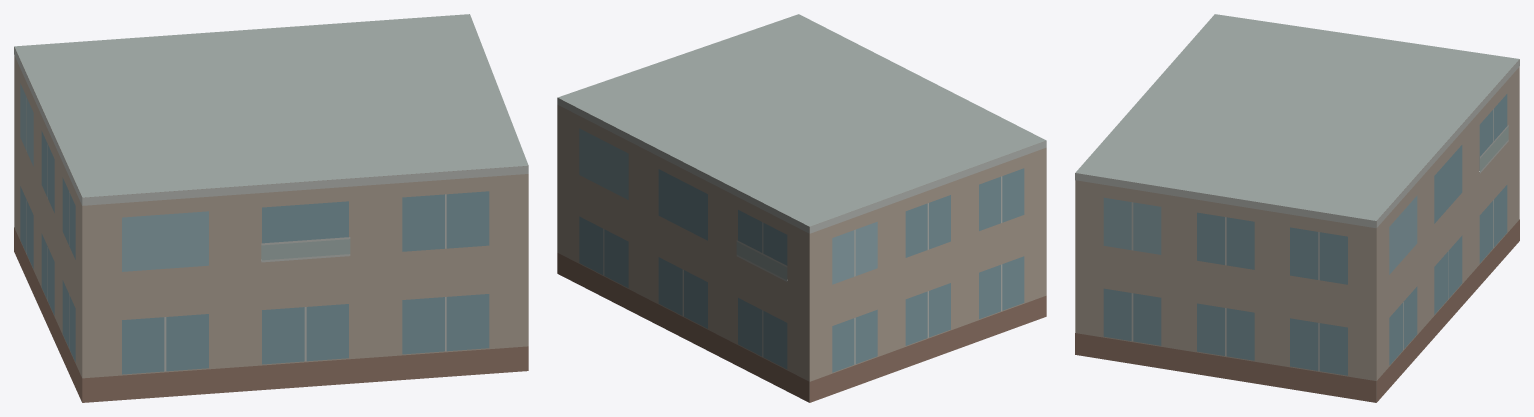
Rendered from survey-upis-32927289.glb.
The picture shows the model from 3 angles, left to right: view 1: azimuth 30°, elevation 25°; view 2: azimuth 150°, elevation 25°; view 3: azimuth 270°, elevation 25°; orthographic projection. The views are drawn at different scales.
Visible parts, largest first — view 1: survey-upis-32927289.tmp; view 2: survey-upis-32927289.tmp; view 3: survey-upis-32927289.tmp.
Part boxes in pixels (x1,y1,x2,y2): survey-upis-32927289.tmp: (14,14,528,402); survey-upis-32927289.tmp: (557,14,1046,402); survey-upis-32927289.tmp: (1075,14,1519,402).
Size of the model in its own units: 14.91 by 6.1 by 13.53.
